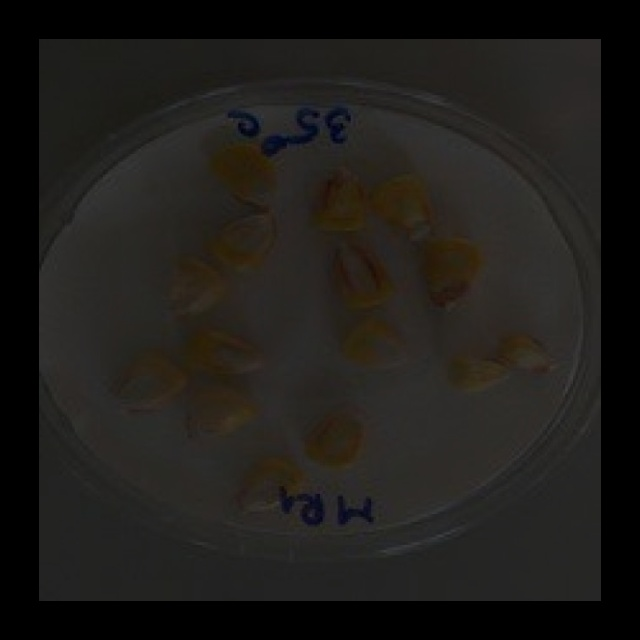Zea mays: (337, 310, 422, 376), (322, 233, 396, 306), (420, 232, 489, 309), (228, 451, 312, 514), (112, 346, 193, 411), (183, 322, 275, 377), (182, 379, 261, 442), (160, 250, 231, 317), (376, 168, 441, 240), (208, 211, 282, 272), (300, 404, 371, 464), (313, 162, 373, 232), (211, 139, 282, 198), (492, 323, 562, 375), (444, 348, 514, 394)
